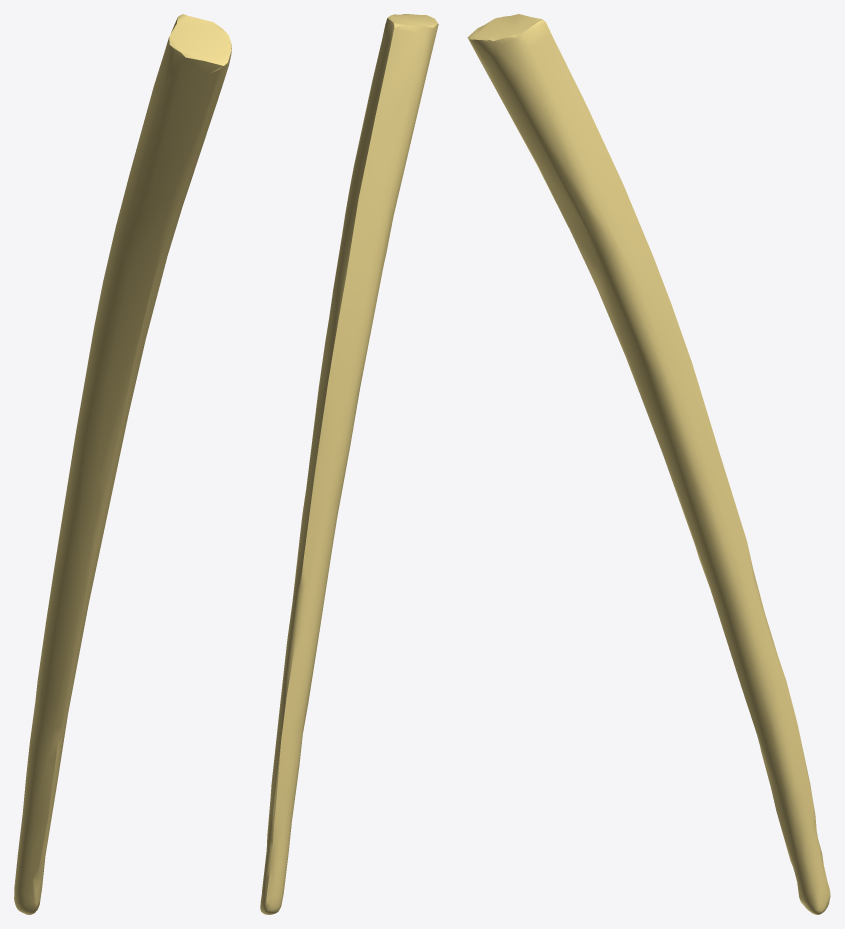
Rendered from fma78497_fj1737.glb.
3 renders of one model, left to right at view 1: azimuth 30°, elevation 25°; view 2: azimuth 150°, elevation 25°; view 3: azimuth 270°, elevation 25°, orthographic. The views are drawn at different scales.
Visible parts, largest first — view 1: FMA78497_FJ1737; view 2: FMA78497_FJ1737; view 3: FMA78497_FJ1737.
Boxes of the visible parts, x1,y1,x2,y2 form: FMA78497_FJ1737: (14,14,231,914); FMA78497_FJ1737: (260,14,438,914); FMA78497_FJ1737: (467,14,830,914).
Size of the model in its own units: 0.00222 by 0.0356 by 0.0131.
